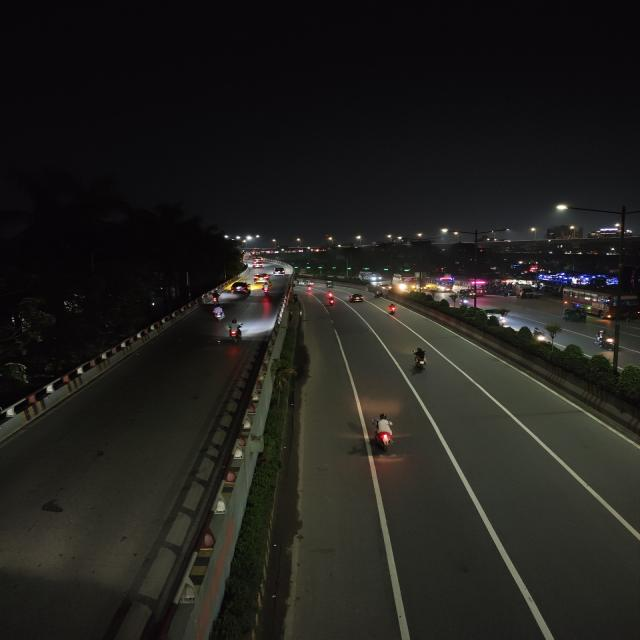bus: (564, 286, 638, 322), (424, 275, 454, 293), (455, 278, 486, 295), (393, 274, 418, 292), (358, 271, 381, 283)
car: (230, 280, 253, 296), (253, 272, 270, 284), (252, 258, 266, 268)
cng: (561, 308, 586, 324), (348, 292, 365, 304), (273, 267, 286, 276)
motorcycle: (364, 410, 407, 453), (406, 346, 433, 376), (224, 318, 247, 344), (592, 328, 615, 351), (208, 304, 226, 323), (387, 302, 399, 315), (260, 284, 272, 296), (210, 292, 221, 304), (372, 289, 383, 299), (326, 297, 338, 306)
truck: (517, 285, 535, 298)
